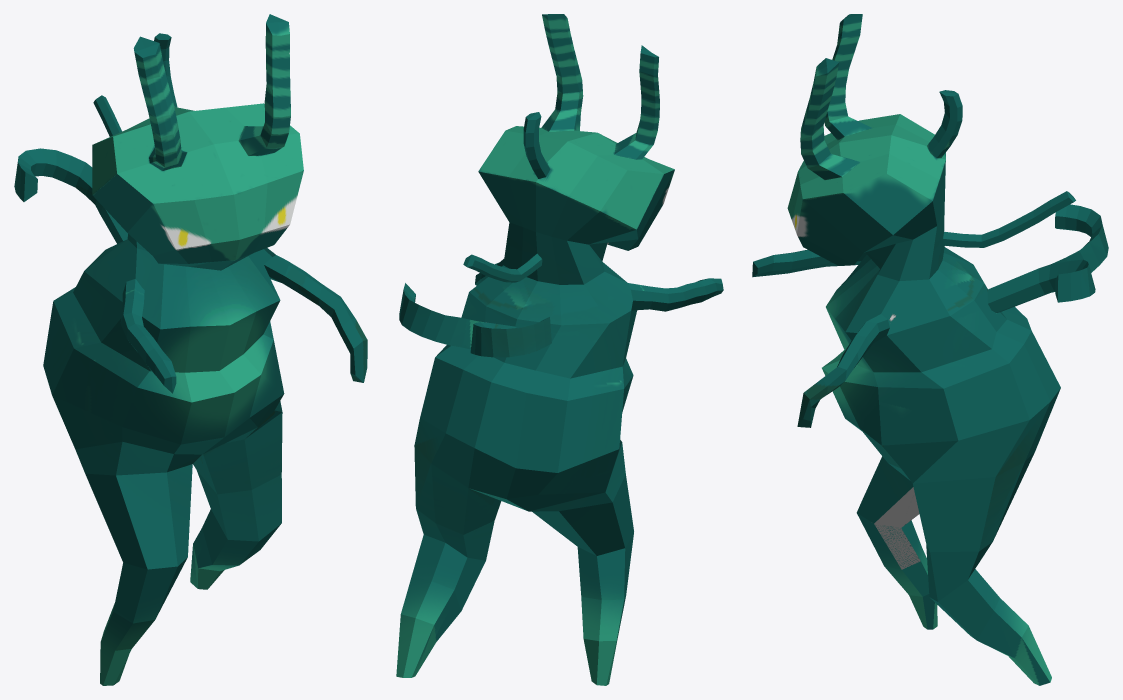
File: monstruo1_caminar_21.obj
3 views of the same model, side by side, from view 1: azimuth 30°, elevation 25°; view 2: azimuth 150°, elevation 25°; view 3: azimuth 270°, elevation 25° (orthographic). The views are drawn at different scales.
Parts seen in each view (by area): view 1: Monstruo_basico; view 2: Monstruo_basico; view 3: Monstruo_basico.
Boxes of the visible parts, bbox=[...] form: Monstruo_basico: bbox=[14, 14, 367, 685]; Monstruo_basico: bbox=[396, 14, 723, 685]; Monstruo_basico: bbox=[752, 14, 1108, 685].
Bounding box in the file's own units: 0.3671 × 1.02 × 0.5381.
